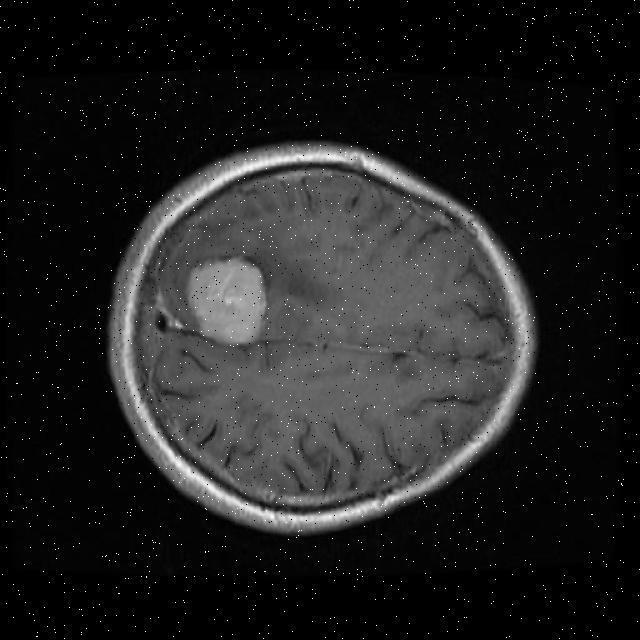Meningioma: (187, 257, 266, 343)
